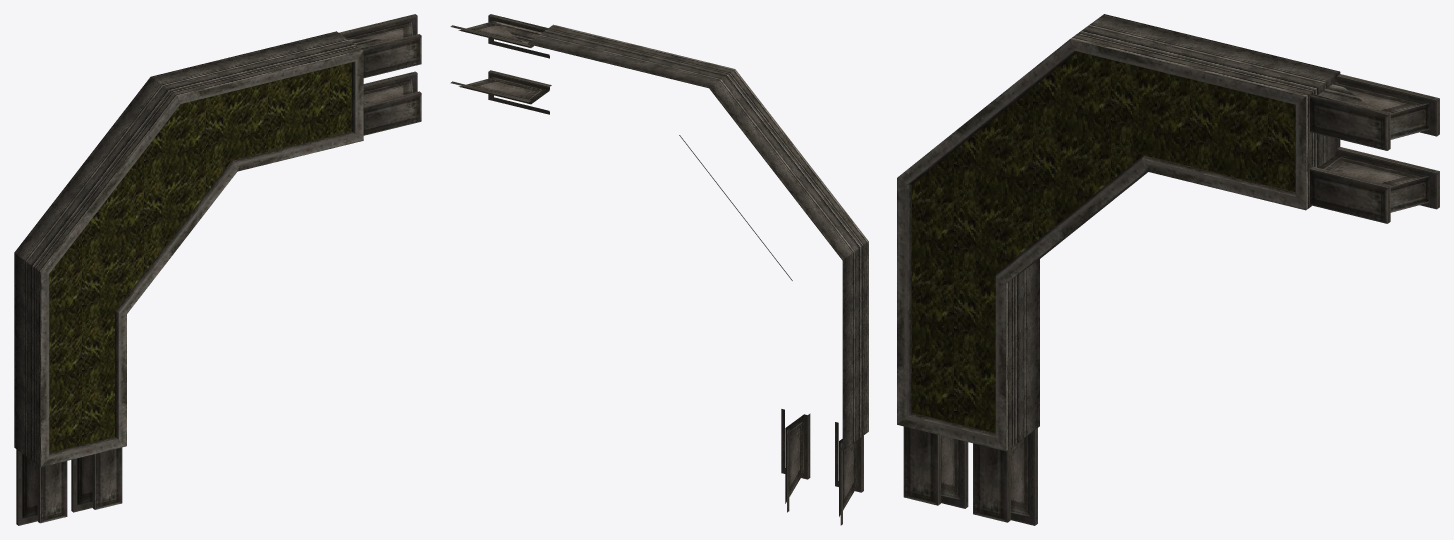
3 views of the same model, side by side, from view 1: azimuth 30°, elevation 25°; view 2: azimuth 150°, elevation 25°; view 3: azimuth 330°, elevation 25° (orthographic). The views are drawn at different scales.
Parts seen in each view (by area): view 1: model_Object10; view 2: model_Object10; view 3: model_Object10.
Part boxes in pixels (left/top/right/bottom): model_Object10: left=14, top=14, right=421, bottom=525; model_Object10: left=450, top=14, right=868, bottom=525; model_Object10: left=897, top=14, right=1439, bottom=525.
Size of the model in its own units: 6.91 by 6.83 by 0.8032.
Materials: 3 (3 with a texture image).
